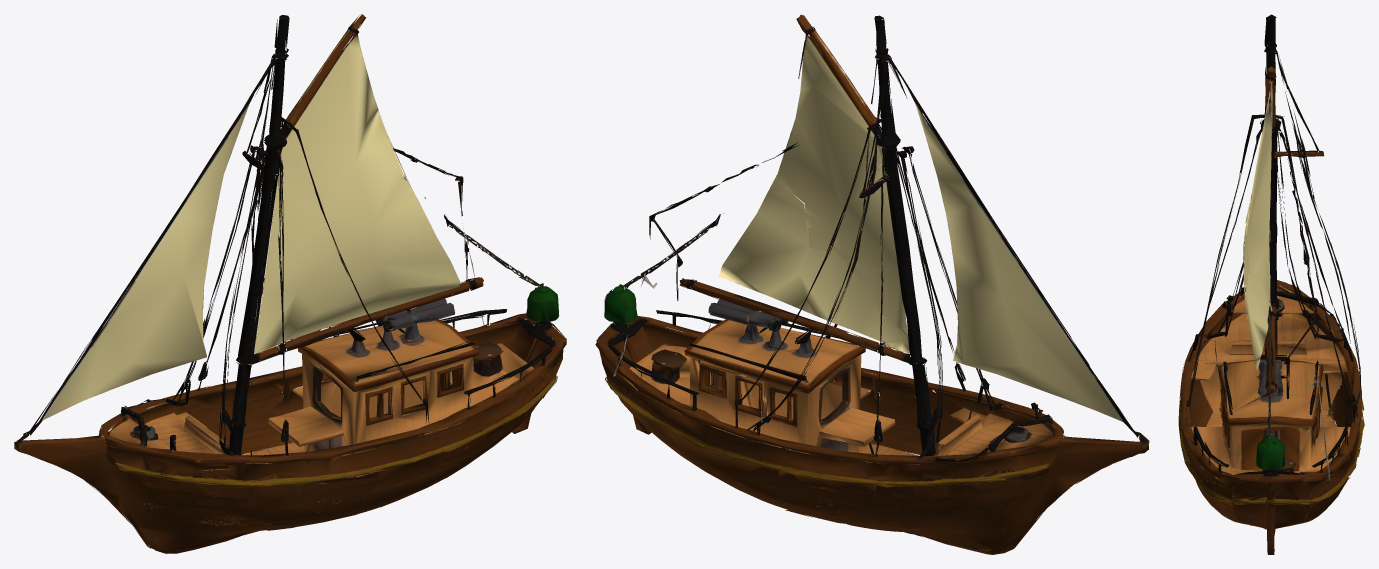
Rendered from research-boat-v3-lod.glb.
3 views of the same model, side by side, from view 1: azimuth 30°, elevation 25°; view 2: azimuth 150°, elevation 25°; view 3: azimuth 270°, elevation 25° (orthographic). The views are drawn at different scales.
Visible parts, largest first — view 1: world; view 2: world; view 3: world.
Part boxes in pixels (x1=…): world: x1=14, y1=14, x2=566, y2=553; world: x1=595, y1=14, x2=1149, y2=554; world: x1=1178, y1=14, x2=1364, y2=554.
Size of the model in its own units: 1 by 0.902 by 0.3265.
Materials: 1 (1 with a texture image).
